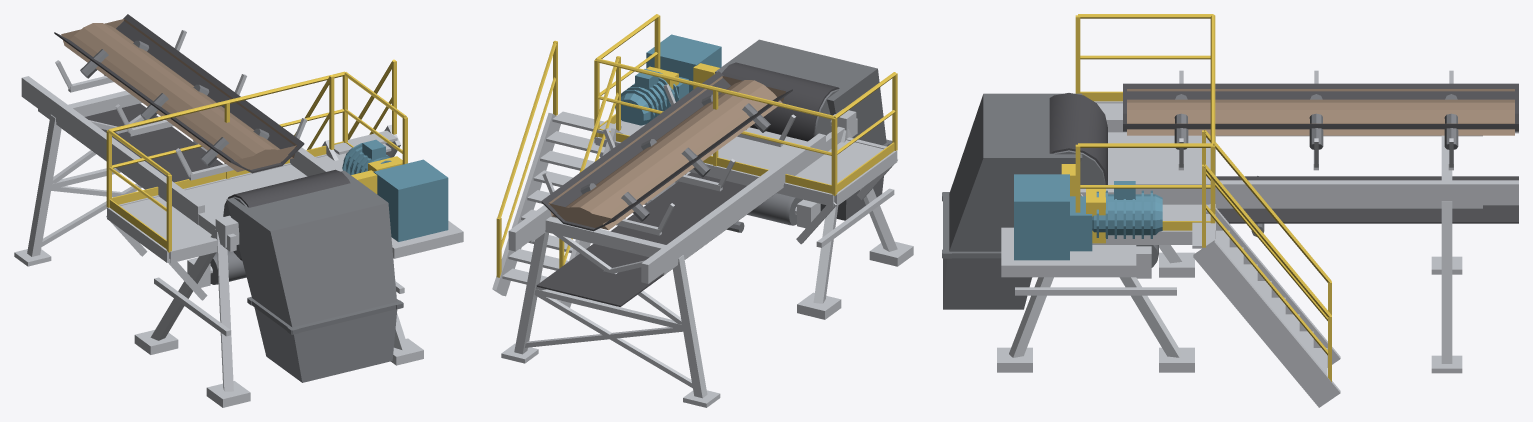
The model's file is ore-processing-and-haulage-plant-conveyor-head-station-24789898.glb.
3 renders of one model, left to right at view 1: azimuth 30°, elevation 25°; view 2: azimuth 150°, elevation 25°; view 3: azimuth 270°, elevation 25°, orthographic. The views are drawn at different scales.
Parts seen in each view (by area): view 1: conveyor-head-station; view 2: conveyor-head-station; view 3: conveyor-head-station.
Boxes of the visible parts, x1=… form: conveyor-head-station: x1=14, y1=14, x2=463, y2=407; conveyor-head-station: x1=492, y1=14, x2=913, y2=407; conveyor-head-station: x1=942, y1=14, x2=1518, y2=407.
Size of the model in its own units: 4.12 by 2.97 by 6.41.
